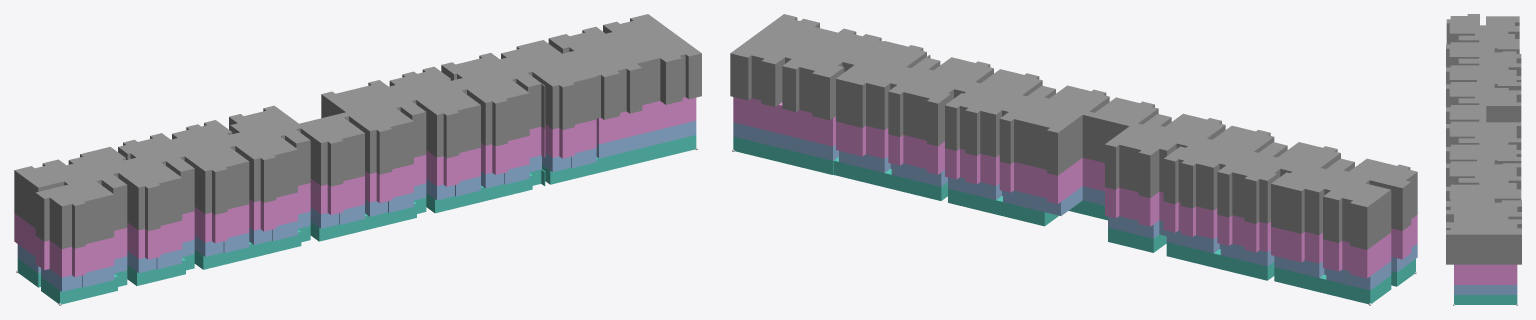
File: building.glb
3 views of the same model, side by side, from view 1: azimuth 30°, elevation 25°; view 2: azimuth 150°, elevation 25°; view 3: azimuth 270°, elevation 25° (orthographic). The views are drawn at different scales.
Parts seen in each view (by area): view 1: Line007, Line003, Line001, Line002, Line005, Line006, Line004, flat_209, flat_309, flat_609, flat_509, flat_409 (+63 smaller); view 2: Line007, Line001, Line003, Line005, Line002, Line006, Line004, flat_215, flat_615, flat_415, flat_315, flat_515 (+60 smaller); view 3: Line007, Line005, Line002, Line003, Line001, flat_614, flat_621, flat_421, flat_521, flat_620, flat_420, flat_520 (+21 smaller).
Part boxes in pixels (x1,y1,x2,y2): Line007: (14, 14, 701, 206); Line003: (14, 106, 696, 263); Line001: (17, 135, 696, 291); Line002: (17, 120, 696, 278); Line005: (14, 97, 696, 249); Line006: (14, 67, 701, 220); Line004: (14, 82, 701, 235); flat_209: (35, 250, 114, 277); flat_309: (35, 236, 114, 263); flat_609: (35, 193, 114, 220); flat_509: (35, 208, 114, 234); flat_409: (35, 222, 114, 248); Line007: (730, 14, 1417, 207); Line001: (733, 136, 1415, 293); Line003: (733, 108, 1417, 264); Line005: (733, 97, 1417, 250); Line002: (733, 122, 1417, 276); Line006: (730, 67, 1417, 221); Line004: (730, 82, 1417, 236); flat_215: (999, 173, 1082, 204); flat_615: (999, 115, 1082, 146); flat_415: (999, 144, 1082, 175); flat_315: (999, 158, 1082, 189); flat_515: (999, 130, 1082, 161); Line007: (1446, 14, 1521, 234); Line005: (1454, 264, 1517, 274); Line002: (1454, 285, 1517, 294); Line003: (1454, 275, 1517, 284); Line001: (1454, 295, 1517, 304); flat_614: (1486, 95, 1521, 116); flat_621: (1446, 228, 1485, 244); flat_421: (1446, 255, 1485, 264); flat_521: (1446, 245, 1485, 254); flat_620: (1486, 224, 1521, 244); flat_420: (1486, 255, 1521, 264); flat_520: (1486, 245, 1521, 254).
Size of the model in its own units: 1.42 by 0.2133 by 0.2047.
